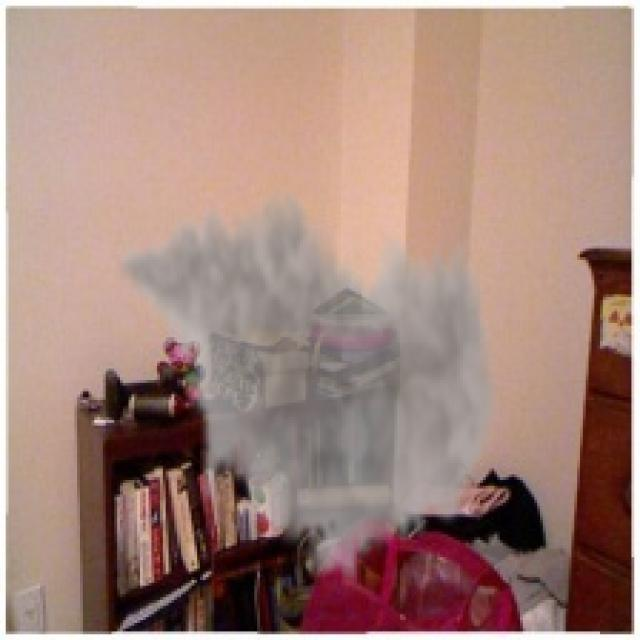Smoke: (114, 177, 503, 594)
